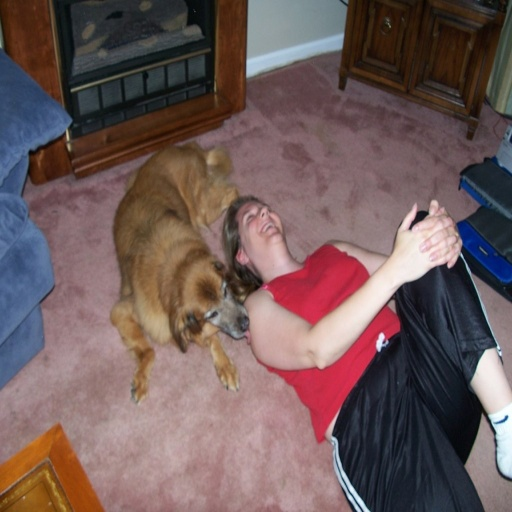hand: (409, 197, 462, 270)
